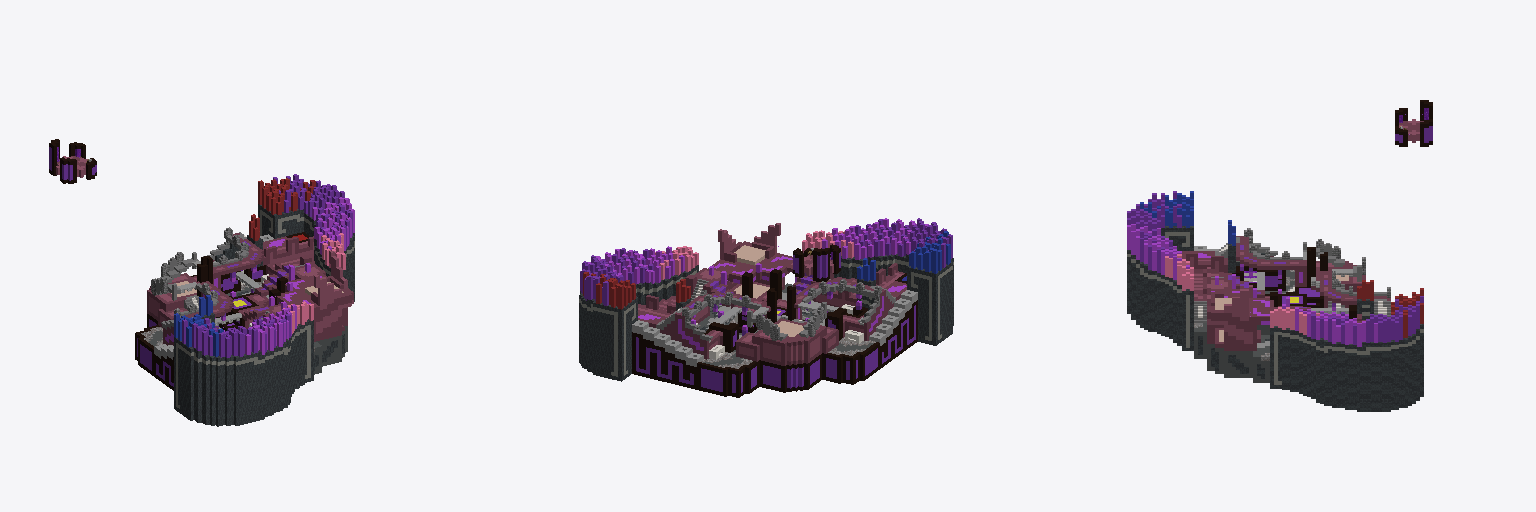
3 renders of one model, left to right at view 1: azimuth 30°, elevation 25°; view 2: azimuth 150°, elevation 25°; view 3: azimuth 270°, elevation 25°, orthographic.
Size of the model in its own units: 73 by 48 by 73.
Materials: 37 (7 with a texture image).